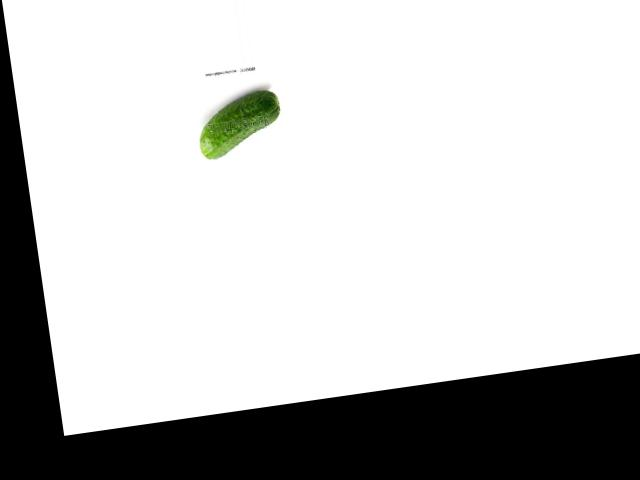cucumber: (193, 87, 286, 161)
